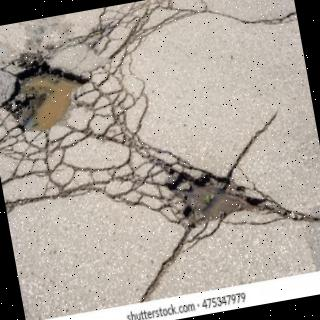pothole: (164, 172, 319, 237), (0, 61, 88, 132)
